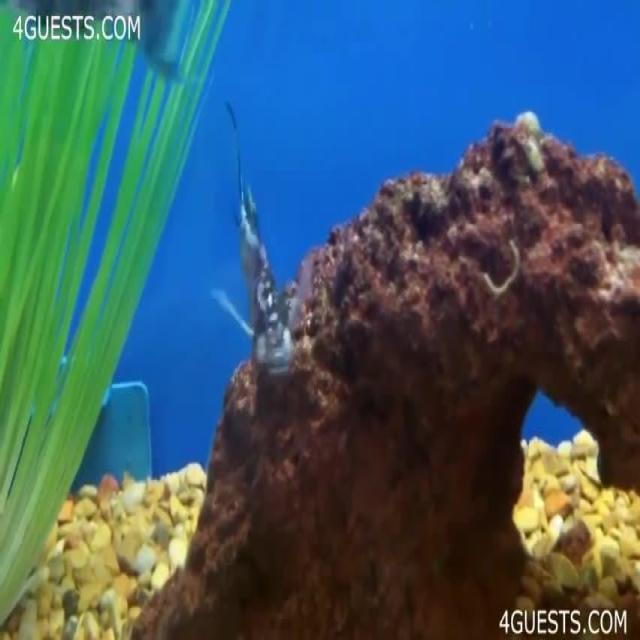PlatyFish: (194, 86, 320, 426)
